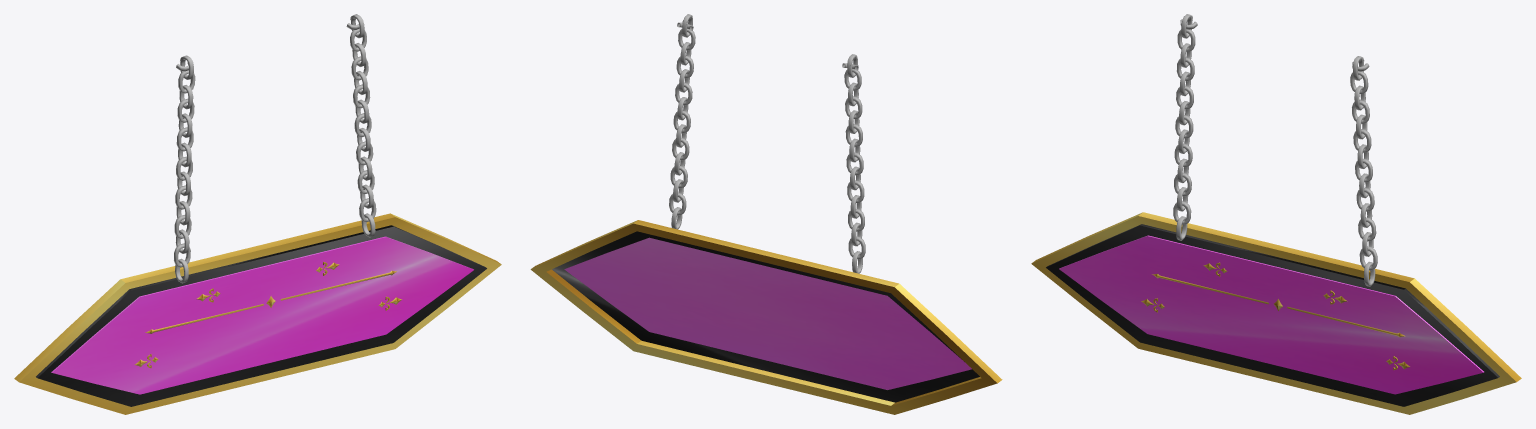
Rendered from UI_break.obj.
3 views of the same model, side by side, from view 1: azimuth 30°, elevation 25°; view 2: azimuth 150°, elevation 25°; view 3: azimuth 330°, elevation 25° (orthographic). The views are drawn at different scales.
Visible parts, largest first — view 1: 立方体; view 2: 立方体; view 3: 立方体.
Boxes of the visible parts, x1,y1,x2,y2 form: 立方体: (14, 14, 501, 414); 立方体: (530, 14, 1002, 414); 立方体: (1031, 14, 1521, 414).
Bounding box in the file's own units: 9.03 × 6.25 × 0.5272.
Materials: 1 (1 with a texture image).
